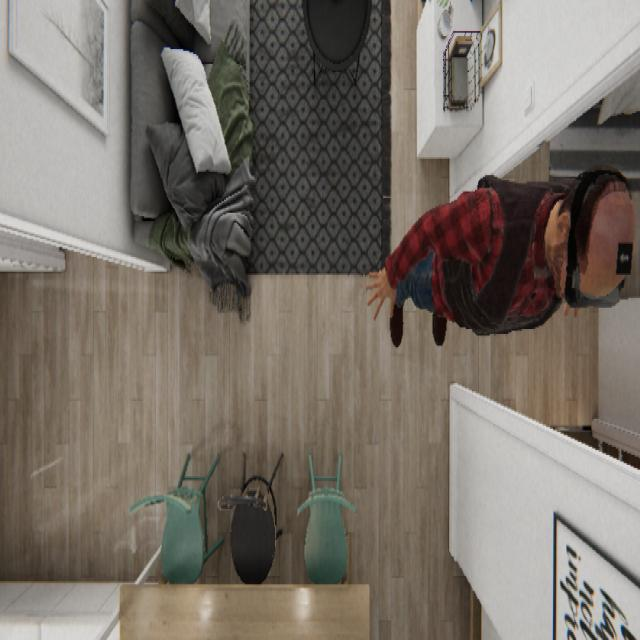Human: (365, 164, 635, 347)
UnityLogo: (615, 237, 633, 275)
